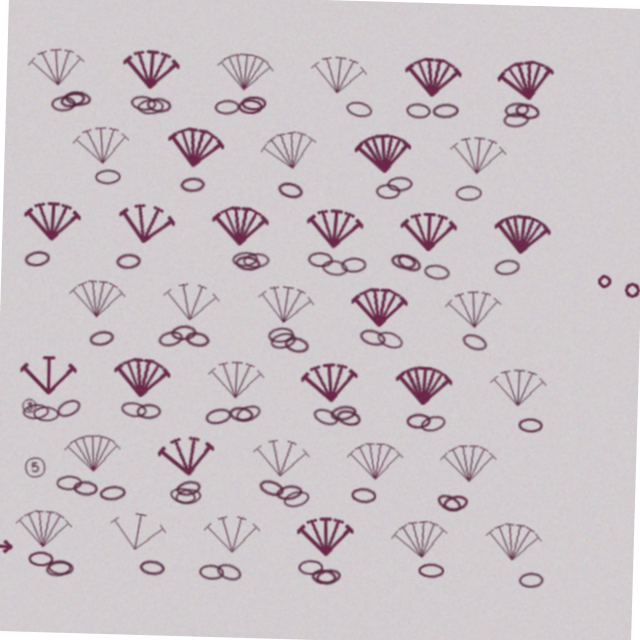chain: (57, 403, 86, 427), (393, 249, 421, 272), (237, 404, 265, 427), (440, 488, 468, 511), (376, 327, 405, 349), (314, 406, 343, 428), (461, 327, 489, 349), (287, 489, 316, 510), (270, 331, 298, 352), (422, 410, 450, 431), (262, 479, 290, 500), (222, 564, 250, 585), (359, 326, 387, 346), (207, 409, 235, 429), (53, 97, 80, 117), (273, 181, 300, 201), (158, 333, 185, 353), (338, 407, 365, 427), (180, 482, 207, 502), (447, 489, 474, 509), (339, 99, 367, 118), (332, 403, 360, 422), (174, 490, 202, 509), (280, 484, 308, 503), (508, 96, 535, 115), (22, 257, 49, 276), (388, 250, 415, 269), (89, 335, 116, 354), (284, 336, 311, 355), (322, 567, 349, 586), (52, 567, 80, 585), (422, 260, 449, 278), (492, 253, 519, 271), (268, 327, 295, 345), (123, 406, 150, 424), (104, 490, 131, 508), (180, 491, 207, 509), (185, 334, 211, 352), (58, 97, 85, 114), (124, 100, 151, 117), (131, 103, 158, 120), (426, 99, 453, 116), (497, 106, 524, 123), (241, 254, 268, 271), (230, 253, 257, 270), (320, 259, 347, 276), (25, 411, 52, 428), (498, 96, 524, 113), (176, 180, 202, 197), (114, 258, 140, 275), (233, 257, 259, 274), (171, 328, 197, 345), (231, 408, 257, 425), (146, 564, 172, 581), (318, 568, 344, 585), (140, 102, 166, 118), (208, 102, 234, 118), (91, 175, 117, 191), (383, 174, 409, 190), (452, 181, 478, 197), (339, 256, 365, 272), (61, 482, 87, 498), (55, 567, 81, 583), (45, 103, 70, 119), (400, 100, 425, 116), (139, 408, 164, 424), (409, 410, 434, 426), (78, 487, 103, 503), (356, 486, 381, 502), (206, 567, 231, 583), (526, 566, 551, 582), (36, 414, 62, 429), (425, 560, 451, 575), (235, 98, 260, 113), (232, 101, 257, 116), (372, 182, 397, 197), (306, 252, 331, 267), (521, 412, 546, 427), (35, 559, 60, 574), (305, 560, 330, 575)
fan: (253, 126, 316, 178), (489, 50, 550, 100), (113, 204, 174, 254), (113, 512, 174, 562), (160, 127, 221, 176), (160, 436, 221, 484), (255, 282, 315, 330), (396, 513, 456, 561), (302, 359, 361, 406), (20, 52, 79, 98), (302, 52, 361, 98), (67, 129, 126, 175), (349, 129, 408, 175), (490, 206, 549, 252), (161, 283, 220, 329), (114, 360, 173, 406), (490, 514, 549, 560), (115, 52, 173, 97), (209, 52, 267, 97), (397, 52, 455, 97), (444, 129, 502, 174), (303, 206, 361, 251), (444, 283, 502, 328), (256, 437, 314, 482), (21, 207, 78, 251), (397, 361, 454, 405), (68, 438, 125, 482), (21, 515, 78, 559), (209, 207, 266, 250), (68, 284, 125, 327), (209, 361, 266, 404), (444, 438, 501, 481), (303, 515, 360, 558), (492, 361, 548, 404), (398, 208, 454, 250), (351, 285, 407, 327), (22, 362, 78, 404), (351, 439, 407, 481), (210, 516, 266, 558)
noise: (26, 462, 52, 488), (22, 404, 42, 424), (621, 271, 640, 291), (0, 547, 21, 562), (595, 265, 612, 282)
